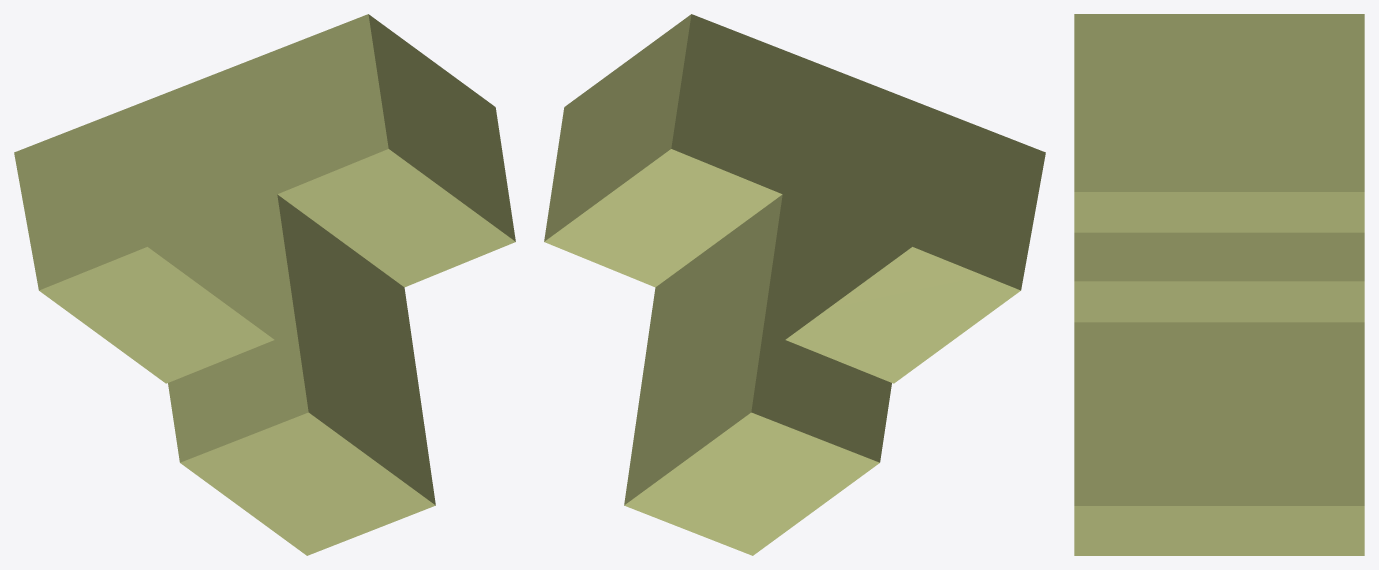
The picture shows the model from 3 angles, left to right: view 1: azimuth 30°, elevation 25°; view 2: azimuth 150°, elevation 25°; view 3: azimuth 270°, elevation 25°; orthographic projection. The views are drawn at different scales.
Parts seen in each view (by area): view 1: 0_1_3_2_2_1_0_1_1_2; view 2: 0_1_3_2_2_1_0_1_1_2; view 3: 0_1_3_2_2_1_0_1_1_2.
Boxes of the visible parts, bbox=[...] form: 0_1_3_2_2_1_0_1_1_2: bbox=[14, 14, 515, 555]; 0_1_3_2_2_1_0_1_1_2: bbox=[544, 14, 1045, 555]; 0_1_3_2_2_1_0_1_1_2: bbox=[1074, 14, 1364, 555].
Bounding box in the file's own units: 10.2 × 10.48 × 6.
